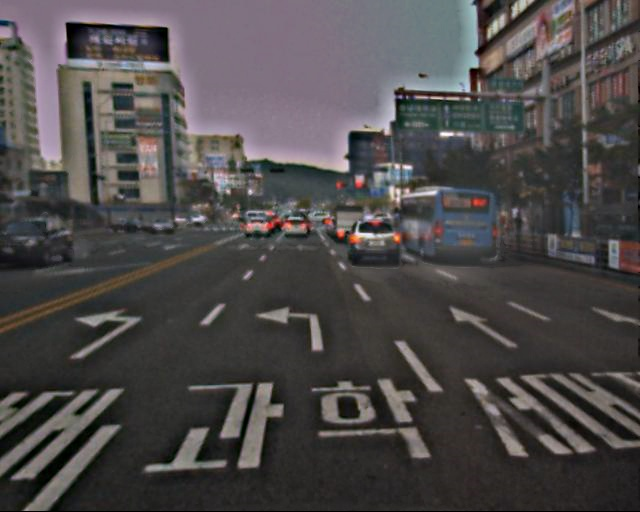person: (512, 210, 526, 244)
